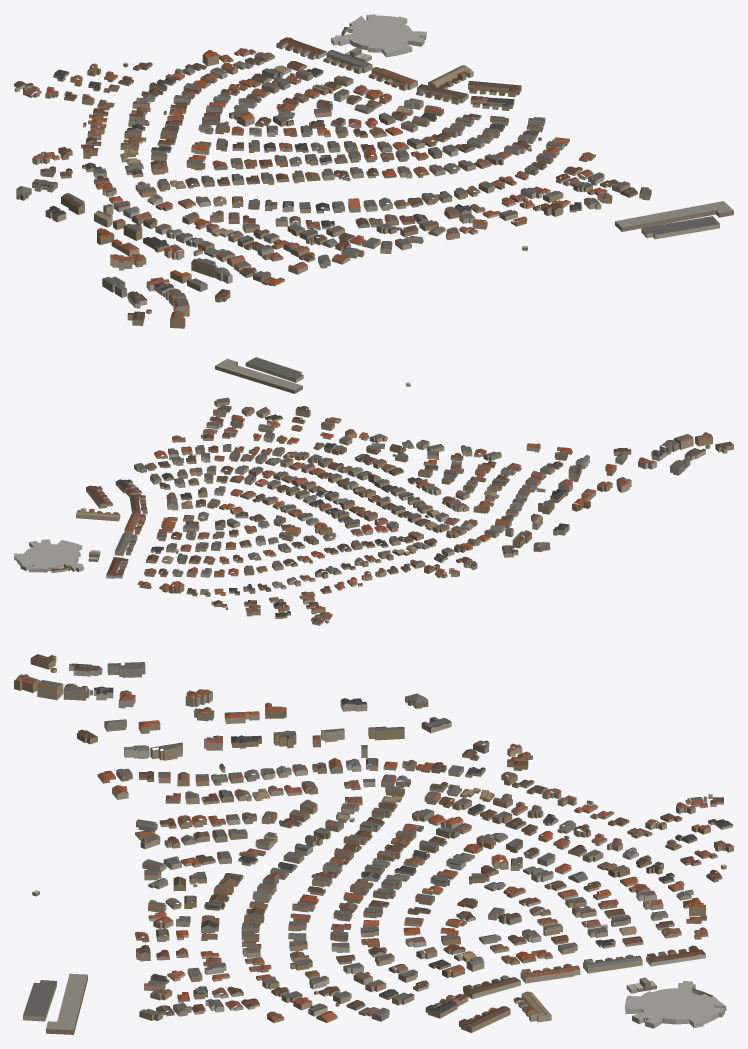
The picture shows the model from 3 angles, top to bottom: view 1: azimuth 30°, elevation 25°; view 2: azimuth 150°, elevation 25°; view 3: azimuth 270°, elevation 25°; orthographic projection. The views are drawn at different scales.
Parts seen in each view (by area): view 1: buildings_r2_c6_lod1; view 2: buildings_r2_c6_lod1; view 3: buildings_r2_c6_lod1.
Boxes of the visible parts, x1,y1,x2,y2 form: buildings_r2_c6_lod1: [14, 14, 733, 328]; buildings_r2_c6_lod1: [14, 357, 733, 625]; buildings_r2_c6_lod1: [14, 654, 733, 1034].
Bounding box in the file's own units: 877 × 83.01 × 808.
